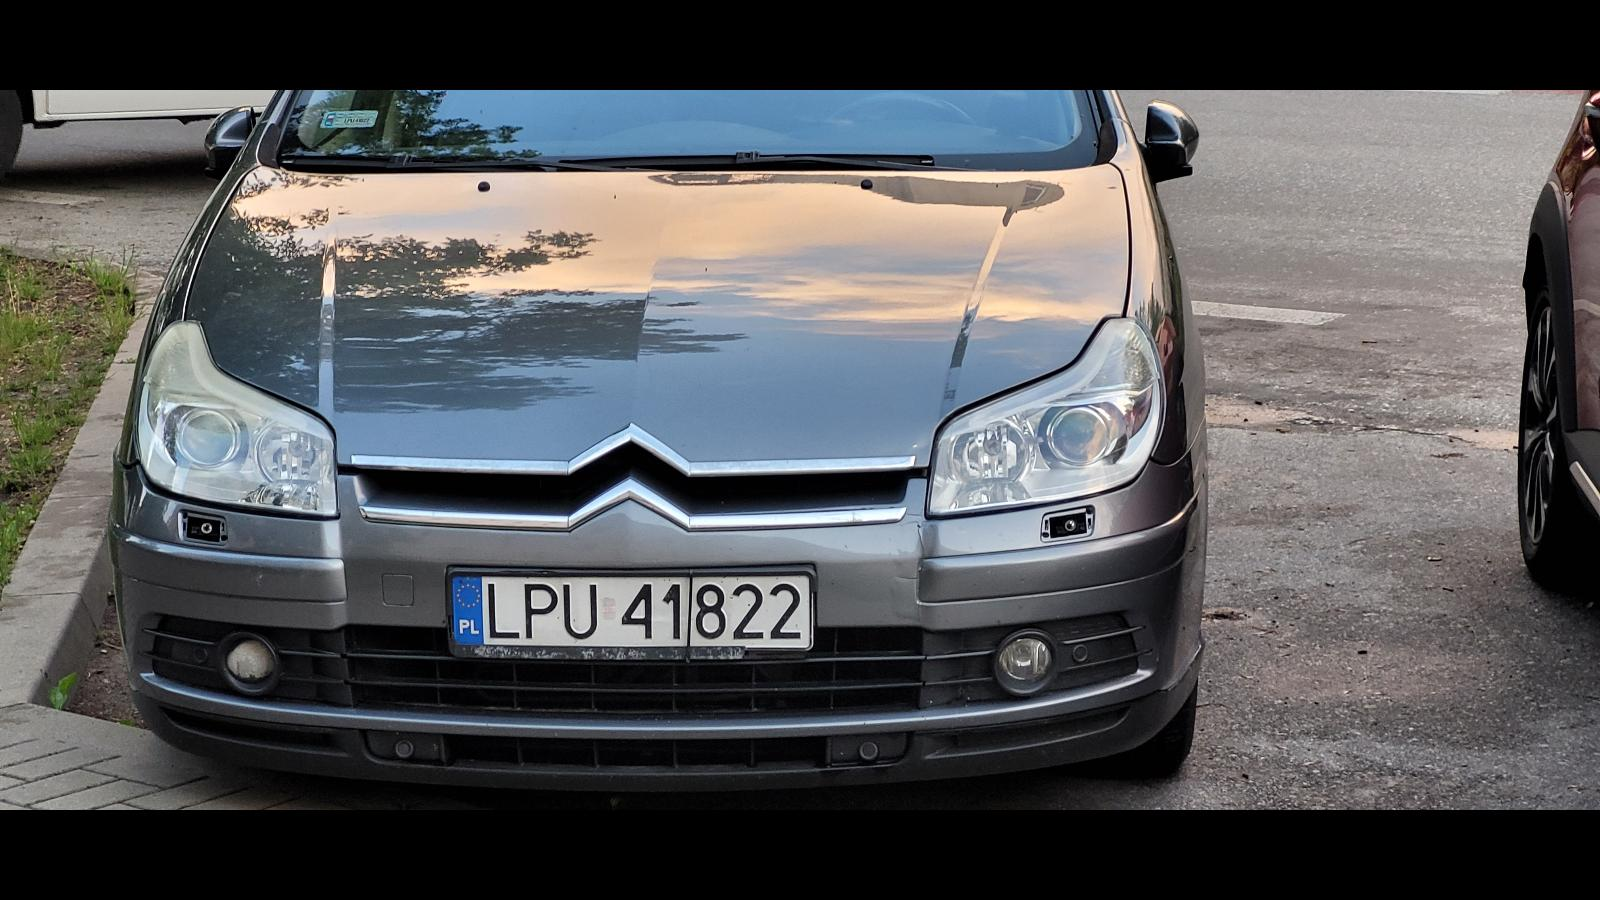plates: (446, 568, 814, 660)
